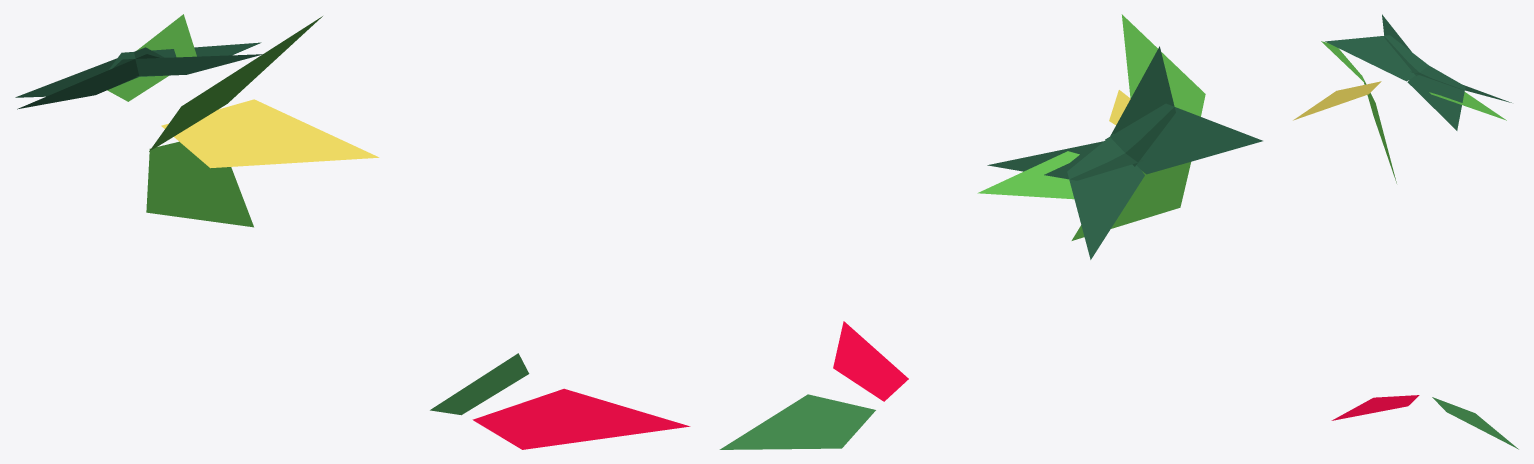
Rendered from Leaves.fbx.
3 views of the same model, side by side, from view 1: azimuth 30°, elevation 25°; view 2: azimuth 150°, elevation 25°; view 3: azimuth 270°, elevation 25° (orthographic). The views are drawn at different scales.
Parts seen in each view (by area): view 1: leaves3, Leaves4, leaves2, Leaves; view 2: Leaves, leaves2, Leaves4, leaves3; view 3: Leaves, leaves2, leaves3, Leaves4.
Part boxes in pixels (bbox=[...]): leaves3: bbox=[107, 14, 379, 168]; Leaves4: bbox=[146, 16, 322, 227]; leaves2: bbox=[430, 353, 690, 449]; Leaves: bbox=[15, 42, 262, 109]; Leaves: bbox=[987, 46, 1262, 259]; leaves2: bbox=[719, 321, 908, 449]; Leaves4: bbox=[1071, 14, 1205, 240]; leaves3: bbox=[977, 90, 1130, 199]; Leaves: bbox=[1325, 14, 1511, 130]; leaves2: bbox=[1331, 395, 1518, 449]; leaves3: bbox=[1293, 81, 1506, 120]; Leaves4: bbox=[1321, 41, 1396, 183].
Size of the model in its own units: 138 by 118 by 78.75.
